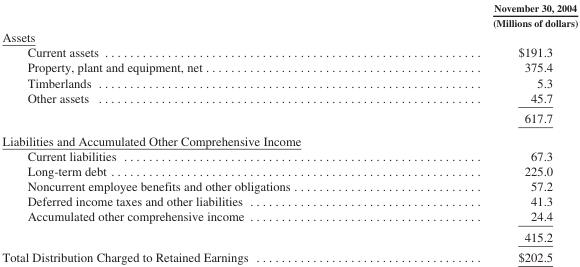table: (1, 1, 577, 263)
table column: (1, 1, 390, 263), (390, 1, 577, 263)
table column header: (1, 1, 577, 29)
table projected row header: (1, 129, 577, 147), (1, 29, 577, 44)
table row: (1, 1, 577, 29), (1, 107, 577, 129), (1, 226, 577, 246), (1, 89, 577, 107), (1, 129, 577, 147), (1, 208, 577, 226), (1, 246, 577, 263), (1, 147, 577, 163), (1, 29, 577, 44), (1, 44, 577, 59), (1, 59, 577, 74), (1, 74, 577, 89), (1, 163, 577, 178), (1, 178, 577, 193), (1, 193, 577, 208)
